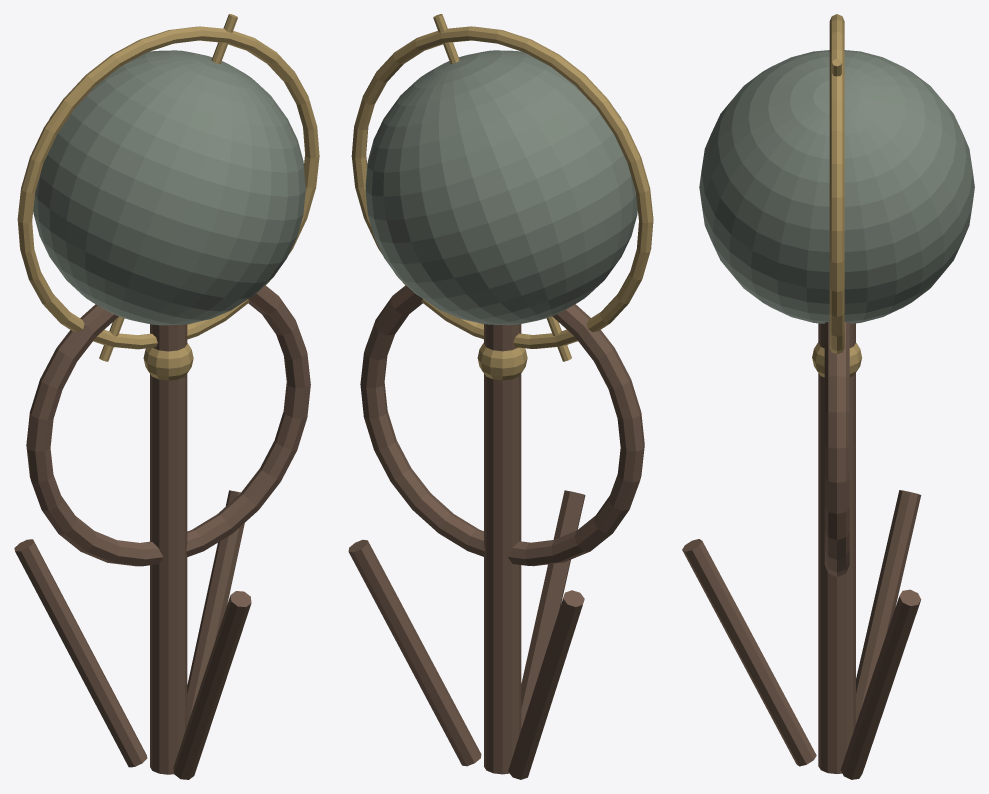
3 renders of one model, left to right at view 1: azimuth 30°, elevation 25°; view 2: azimuth 150°, elevation 25°; view 3: azimuth 270°, elevation 25°, orthographic.
Parts seen in each view (by area): view 1: globeStand; view 2: globeStand; view 3: globeStand.
Boxes of the visible parts, box(x1,y1,x2,y2) form: globeStand: box(14, 14, 319, 779); globeStand: box(348, 14, 653, 779); globeStand: box(682, 14, 974, 779).
Size of the model in its own units: 0.5539 by 1.3 by 0.4676.
